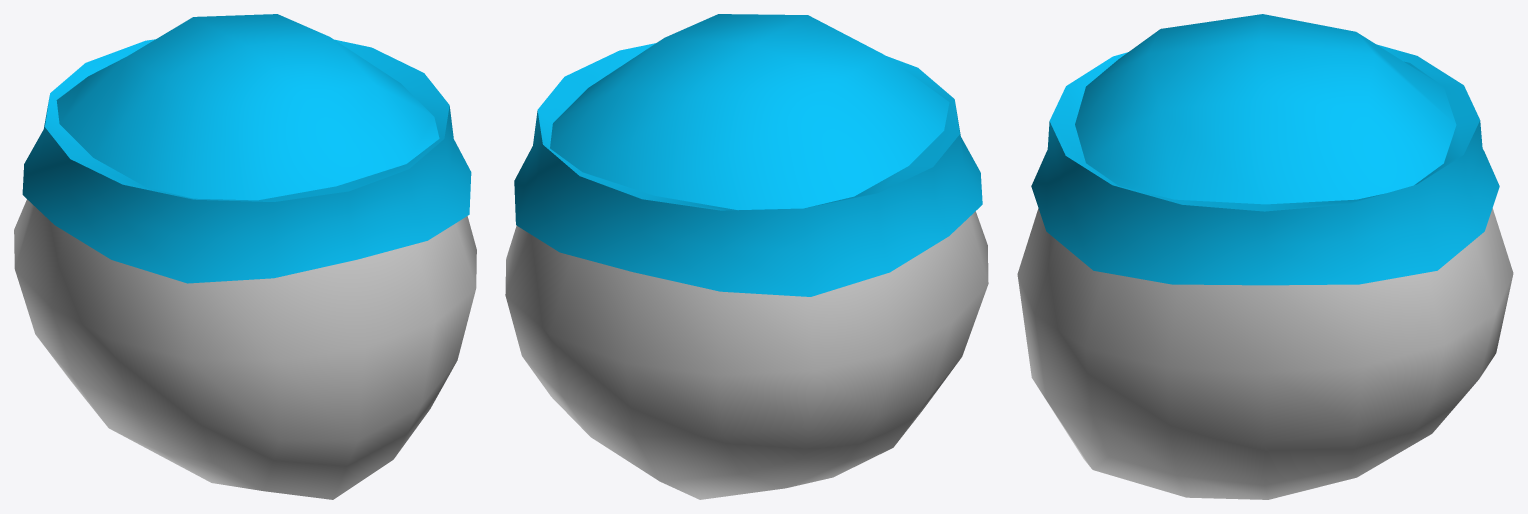
The model's file is Neutron.fbx.
3 renders of one model, left to right at view 1: azimuth 30°, elevation 25°; view 2: azimuth 150°, elevation 25°; view 3: azimuth 270°, elevation 25°, orthographic. The views are drawn at different scales.
Visible parts, largest first — view 1: NEUTRON; view 2: NEUTRON; view 3: NEUTRON.
Part boxes in pixels (left/top/right/bottom): NEUTRON: left=14, top=14, right=476, bottom=499; NEUTRON: left=505, top=14, right=988, bottom=499; NEUTRON: left=1017, top=14, right=1513, bottom=499.
Bounding box in the file's own units: 227 × 230 × 236.
